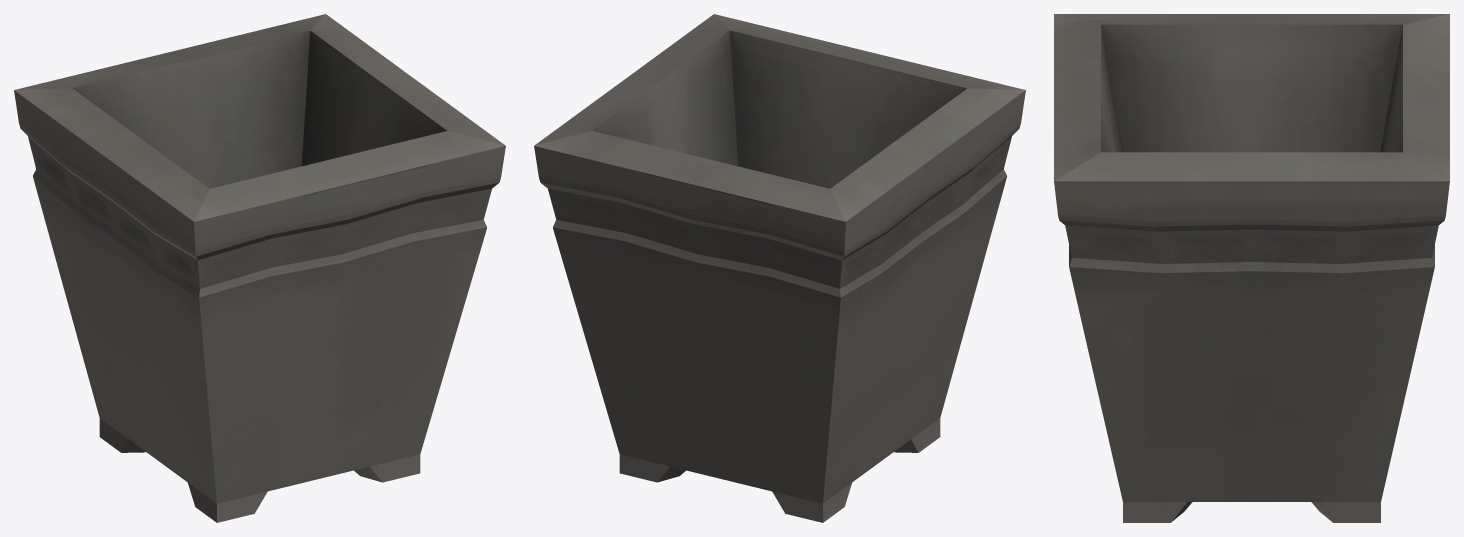
3 renders of one model, left to right at view 1: azimuth 30°, elevation 25°; view 2: azimuth 150°, elevation 25°; view 3: azimuth 270°, elevation 25°, orthographic. The views are drawn at different scales.
Parts seen in each view (by area): view 1: body0_model0_lod0_mesh0; view 2: body0_model0_lod0_mesh0; view 3: body0_model0_lod0_mesh0.
Part boxes in pixels (x1,y1,x2,y2): body0_model0_lod0_mesh0: (14,14,505,522); body0_model0_lod0_mesh0: (534,14,1025,522); body0_model0_lod0_mesh0: (1054,14,1449,522).
Bounding box in the file's own units: 48.01 × 50.82 × 48.01.
Materials: 1 (1 with a texture image).
